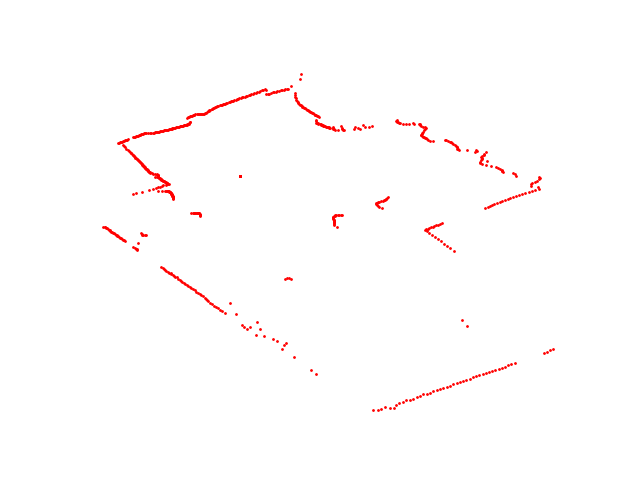person: (330, 194, 392, 230)
